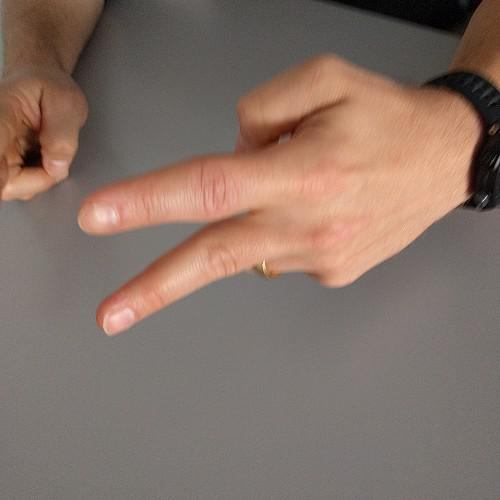scissors: (51, 48, 500, 351)
